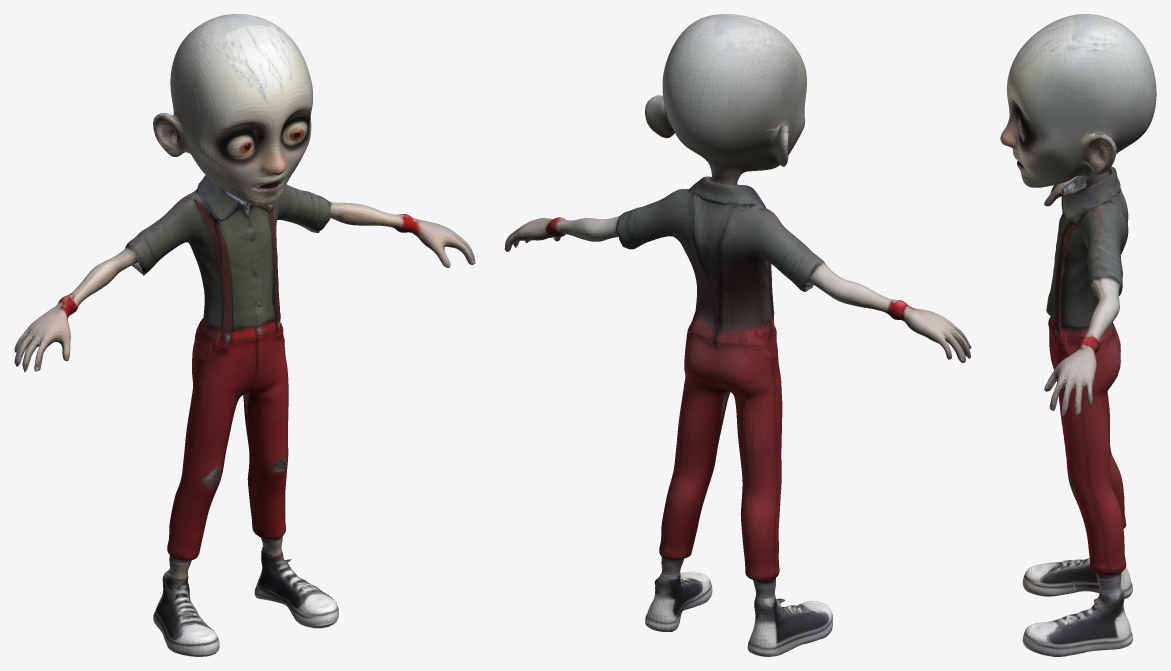
File: Zombie Boy.glb
3 views of the same model, side by side, from view 1: azimuth 30°, elevation 25°; view 2: azimuth 150°, elevation 25°; view 3: azimuth 270°, elevation 25° (orthographic).
Size of the model in its own units: 1.59 by 2 by 0.4737.
Materials: 1 (1 with a texture image).
